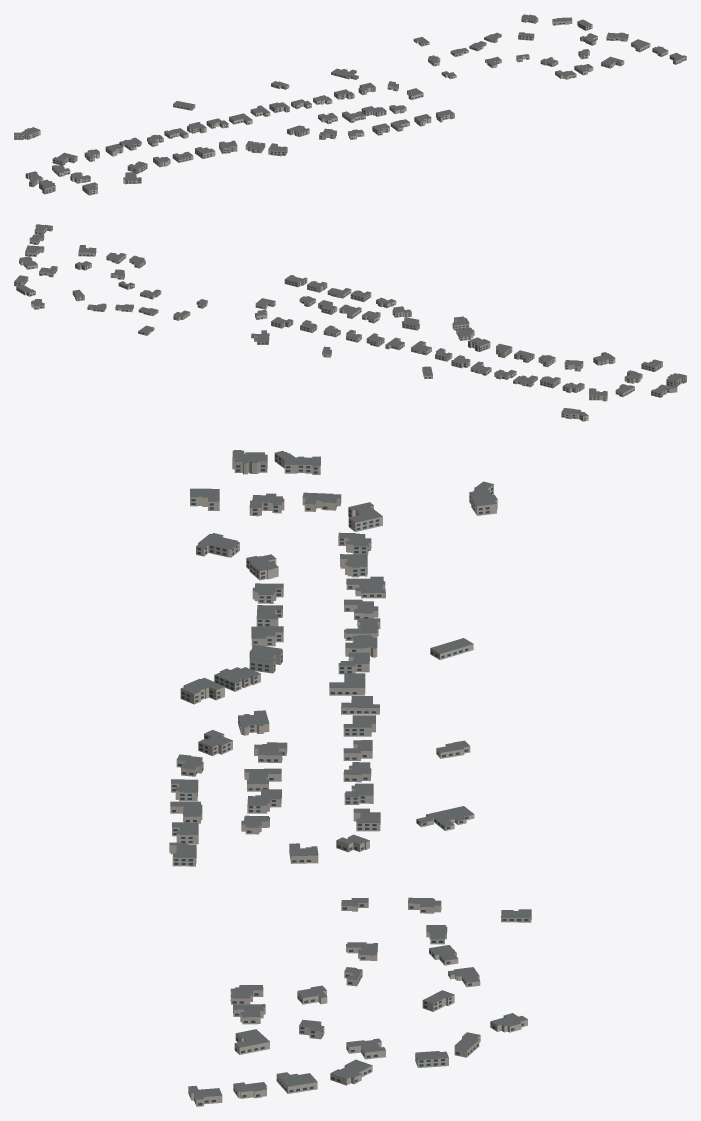
3 views of the same model, one above another, from view 1: azimuth 30°, elevation 25°; view 2: azimuth 150°, elevation 25°; view 3: azimuth 270°, elevation 25° (orthographic). The views are drawn at different scales.
Parts seen in each view (by area): view 1: Buildings (-3, 10) Roof membrane, Buildings (-3, 10) Masonry brick, Buildings (-3, 10) Architectural tinted glass, Buildings (-3, 10) Metal coping; view 2: Buildings (-3, 10) Roof membrane, Buildings (-3, 10) Masonry brick, Buildings (-3, 10) Architectural tinted glass, Buildings (-3, 10) Metal coping; view 3: Buildings (-3, 10) Roof membrane, Buildings (-3, 10) Masonry brick, Buildings (-3, 10) Architectural tinted glass, Buildings (-3, 10) Metal coping.
Boxes of the visible parts, x1,y1,x2,y2 form: Buildings (-3, 10) Roof membrane: (14, 14, 686, 190); Buildings (-3, 10) Masonry brick: (14, 16, 686, 195); Buildings (-3, 10) Architectural tinted glass: (14, 20, 685, 194); Buildings (-3, 10) Metal coping: (14, 15, 686, 188); Buildings (-3, 10) Roof membrane: (14, 224, 686, 416); Buildings (-3, 10) Masonry brick: (14, 226, 677, 421); Buildings (-3, 10) Architectural tinted glass: (14, 229, 686, 420); Buildings (-3, 10) Metal coping: (14, 224, 683, 414); Buildings (-3, 10) Roof membrane: (169, 450, 531, 1099); Buildings (-3, 10) Masonry brick: (169, 453, 531, 1106); Buildings (-3, 10) Architectural tinted glass: (172, 455, 531, 1105); Buildings (-3, 10) Metal coping: (169, 450, 531, 1099).
Bounding box in the file's own units: 1010 × 29.83 × 249.
